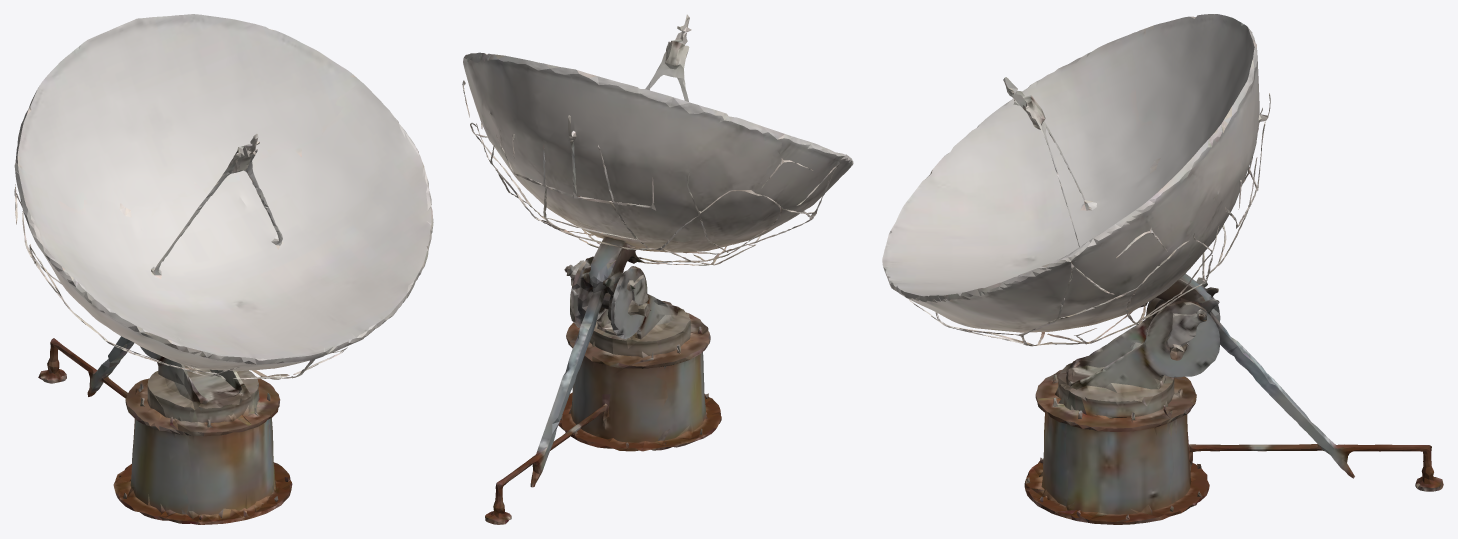
Rendered from telescope.glb.
The picture shows the model from 3 angles, left to right: view 1: azimuth 30°, elevation 25°; view 2: azimuth 150°, elevation 25°; view 3: azimuth 270°, elevation 25°; orthographic projection. The views are drawn at different scales.
Visible parts, largest first — view 1: RODIN_TELESCOPE; view 2: RODIN_TELESCOPE; view 3: RODIN_TELESCOPE.
Part boxes in pixels (x1,y1,x2,y2): RODIN_TELESCOPE: (14,14,433,524); RODIN_TELESCOPE: (462,14,853,524); RODIN_TELESCOPE: (882,14,1443,524).
Bounding box in the file's own units: 9.2 × 9.5 × 11.02.
1 material, 1 textured.
